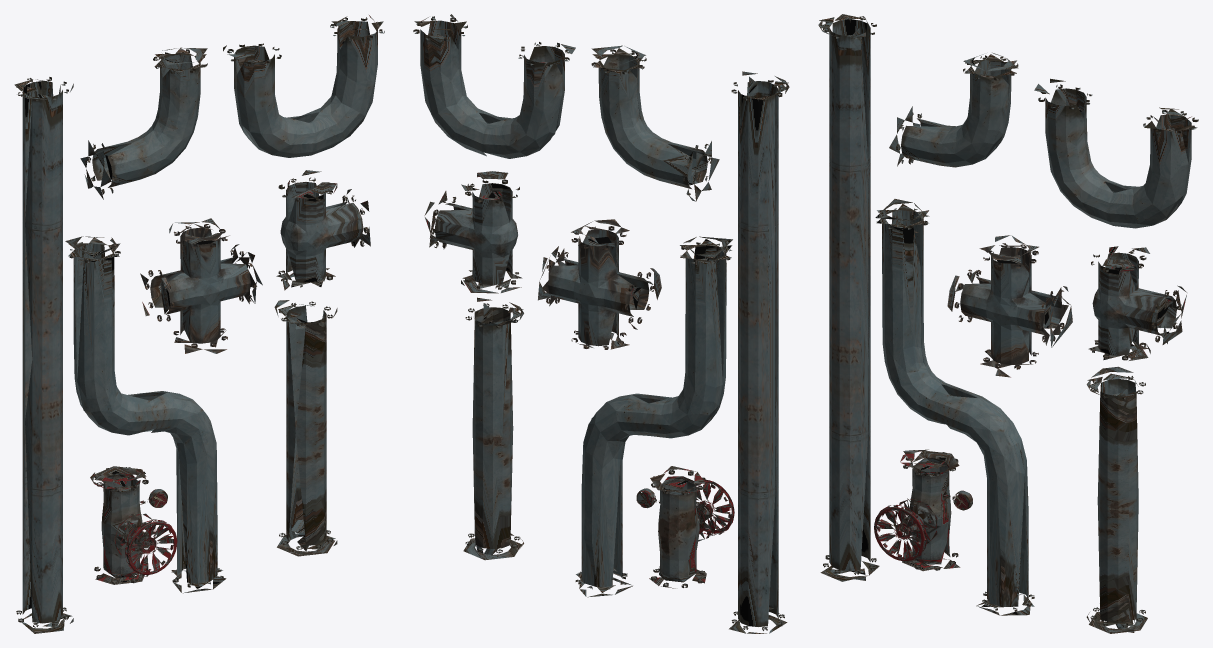
File: IndustrialPipes.obj
The picture shows the model from 3 angles, left to right: view 1: azimuth 30°, elevation 25°; view 2: azimuth 150°, elevation 25°; view 3: azimuth 330°, elevation 25°; orthographic projection.
Parts seen in each view (by area): view 1: part6, part5, part4, part7, part2, part0, part1, part3; view 2: part6, part5, part4, part7, part2, part0, part3, part1; view 3: part6, part5, part4, part7, part2, part0, part1, part3.
Part boxes in pixels (x1,y1,x2,y2): part6: [14, 77, 73, 633]; part5: [65, 236, 226, 593]; part4: [223, 15, 384, 157]; part7: [274, 300, 337, 556]; part2: [140, 218, 262, 353]; part0: [80, 47, 207, 199]; part1: [90, 466, 177, 584]; part3: [276, 170, 370, 290]; part6: [729, 71, 789, 633]; part5: [575, 236, 732, 597]; part4: [413, 14, 575, 158]; part7: [463, 297, 523, 560]; part2: [538, 219, 661, 349]; part0: [591, 45, 719, 201]; part3: [424, 171, 522, 293]; part1: [636, 466, 734, 588]; part6: [818, 14, 879, 581]; part5: [875, 199, 1034, 615]; part4: [1034, 78, 1198, 228]; part7: [1086, 366, 1147, 633]; part2: [947, 235, 1072, 377]; part0: [889, 52, 1018, 167]; part1: [874, 449, 972, 571]; part3: [1088, 246, 1186, 360].
Bounding box in the file's own units: 1.4 × 1.95 × 0.3076.
2 materials, 2 textured.
